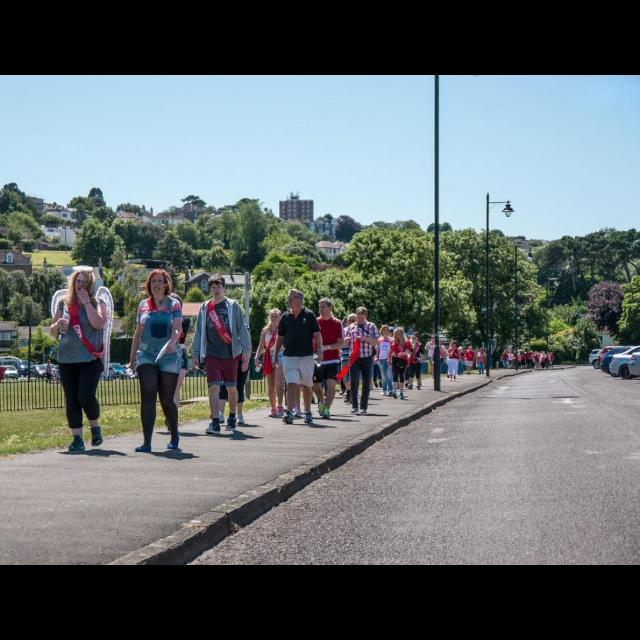head: (74, 272, 94, 300), (150, 270, 170, 296), (164, 292, 183, 316), (209, 276, 225, 298), (287, 290, 305, 308), (318, 299, 334, 317), (223, 302, 237, 320), (356, 307, 368, 325), (270, 309, 282, 325), (342, 317, 353, 329), (348, 315, 358, 327), (382, 326, 390, 336), (395, 330, 403, 340), (412, 333, 420, 343), (432, 337, 438, 345), (452, 343, 458, 349), (48, 360, 52, 366), (459, 348, 463, 354), (469, 346, 473, 352), (442, 342, 446, 346), (480, 350, 484, 354)
person: (49, 267, 114, 453), (126, 268, 184, 454), (190, 274, 252, 436), (271, 288, 323, 428), (146, 290, 192, 434), (206, 299, 252, 425), (253, 307, 293, 421), (309, 298, 345, 420), (340, 306, 380, 414), (336, 314, 368, 402), (333, 315, 357, 397), (374, 324, 398, 398), (387, 328, 411, 400), (403, 332, 429, 392), (424, 334, 442, 380), (446, 341, 462, 383), (433, 338, 447, 379), (455, 346, 467, 376), (464, 346, 476, 376), (476, 348, 486, 376), (46, 360, 54, 384)
